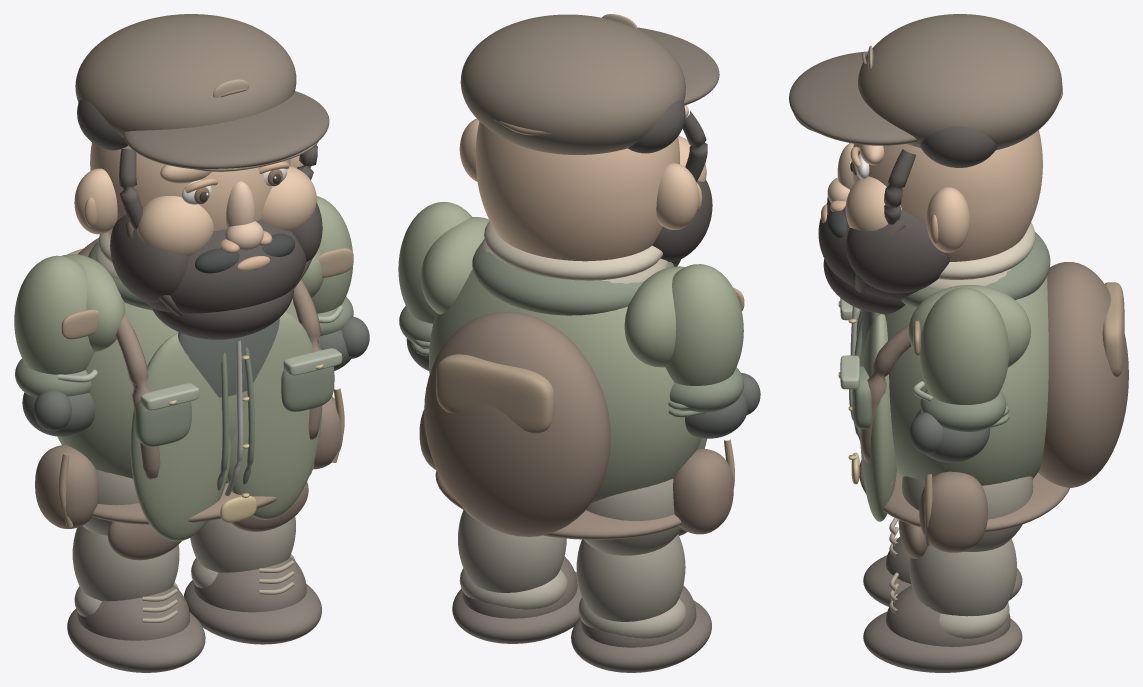
File: afterday_bearded_survivor_v190_ORIGINAL.glb
3 views of the same model, side by side, from view 1: azimuth 30°, elevation 25°; view 2: azimuth 150°, elevation 25°; view 3: azimuth 270°, elevation 25° (orthographic). The views are drawn at different scales.
Parts seen in each view (by area): view 1: cap sculpted crown_110, coat front panel_003, coat front panel_011, rounded baseball visor_111, heavy rounded coat body_000, short padded sleeve_035, jaw beard volume_096, soft wrinkled trouser shin_052, sculpted adult head_071, weathered thick sole_054, weathered thick sole_064, soft wrinkled trouser shin_062 (+44 smaller); view 2: soft rucksack_029, cap sculpted crown_110, sculpted adult head_071, heavy rounded coat body_000, short padded sleeve_035, soft wrinkled trouser shin_052, rucksack cover flap_030, soft wrinkled trouser shin_062, padded hood collar_018, rounded tool pouch_008, rounded padded shoulder_002, weathered thick sole_054 (+20 smaller); view 3: cap sculpted crown_110, soft rucksack_029, heavy rounded coat body_000, sculpted adult head_071, short padded sleeve_043, rounded baseball visor_111, soft wrinkled trouser shin_062, thick side beard_101, weathered thick sole_064, rounded tool pouch_016, coat front panel_011, round boot upper_065 (+24 smaller).
Boxes of the visible parts, bbox=[...] form: cap sculpted crown_110: bbox=[75, 14, 296, 137]; coat front panel_003: bbox=[130, 333, 230, 541]; coat front panel_011: bbox=[227, 311, 322, 519]; rounded baseball visor_111: bbox=[123, 91, 329, 169]; heavy rounded coat body_000: bbox=[57, 298, 319, 483]; short padded sleeve_035: bbox=[14, 255, 94, 374]; jaw beard volume_096: bbox=[141, 220, 306, 313]; soft wrinkled trouser shin_052: bbox=[72, 525, 179, 601]; sculpted adult head_071: bbox=[90, 142, 290, 239]; weathered thick sole_054: bbox=[67, 608, 205, 672]; weathered thick sole_064: bbox=[184, 580, 321, 644]; soft wrinkled trouser shin_062: bbox=[190, 516, 295, 572]; soft rucksack_029: bbox=[424, 312, 610, 536]; cap sculpted crown_110: bbox=[460, 14, 685, 154]; sculpted adult head_071: bbox=[475, 121, 679, 261]; heavy rounded coat body_000: bbox=[429, 269, 701, 503]; short padded sleeve_035: bbox=[665, 264, 743, 385]; soft wrinkled trouser shin_052: bbox=[576, 534, 685, 621]; rucksack cover flap_030: bbox=[435, 354, 554, 433]; soft wrinkled trouser shin_062: bbox=[458, 510, 566, 592]; padded hood collar_018: bbox=[472, 242, 673, 315]; rounded tool pouch_008: bbox=[673, 449, 733, 534]; rounded padded shoulder_002: bbox=[624, 266, 684, 367]; weathered thick sole_054: bbox=[571, 601, 711, 672]; cap sculpted crown_110: bbox=[858, 14, 1062, 150]; soft rucksack_029: bbox=[1038, 262, 1128, 487]; heavy rounded coat body_000: bbox=[885, 276, 1048, 485]; sculpted adult head_071: bbox=[852, 130, 1042, 261]; short padded sleeve_043: bbox=[919, 287, 1008, 404]; rounded baseball visor_111: bbox=[789, 51, 916, 145]; soft wrinkled trouser shin_062: bbox=[909, 539, 1016, 616]; thick side beard_101: bbox=[846, 209, 949, 293]; weathered thick sole_064: bbox=[863, 611, 1022, 672]; rounded tool pouch_016: bbox=[919, 471, 987, 552]; coat front panel_011: bbox=[860, 314, 896, 521]; round boot upper_065: bbox=[886, 585, 1010, 646].
Bounding box in the file's own units: 1.76 × 3.08 × 1.58.
